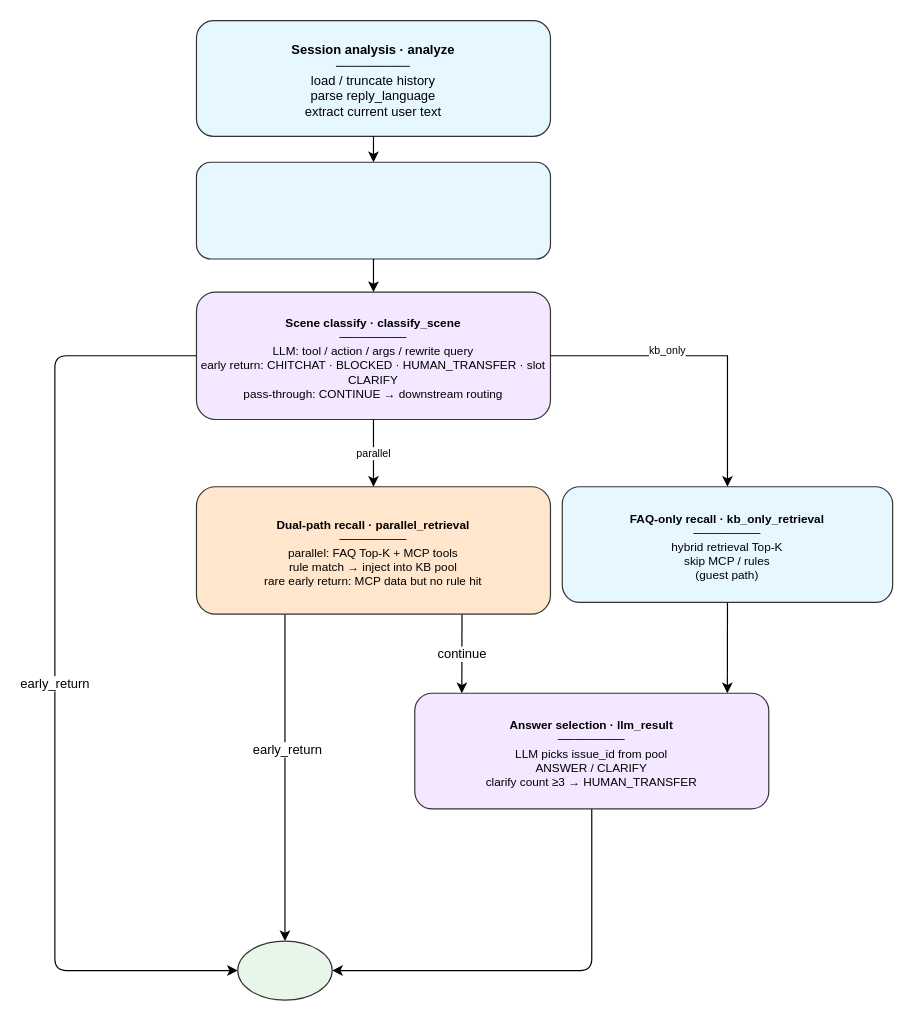
The diagram is 913 pixels wide and 1021 high, and some of its shapes have lost their labels. The shapes that lost their labels are listed below. From the top down, each one's centre as x and y in pixels, then its label:
At pixel 372 210: "Guest mode · guest_mode ──────── no user_id → guest set is_guest_mode".
At pixel 284 970: "END".
